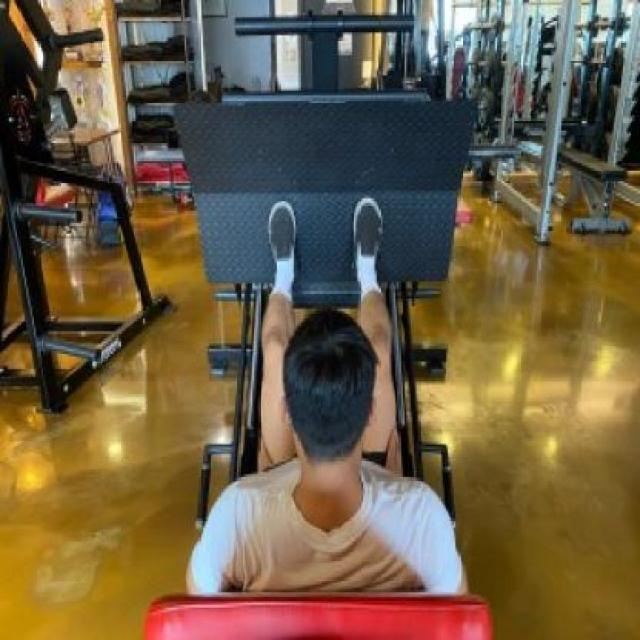leg press: (119, 67, 512, 640)
